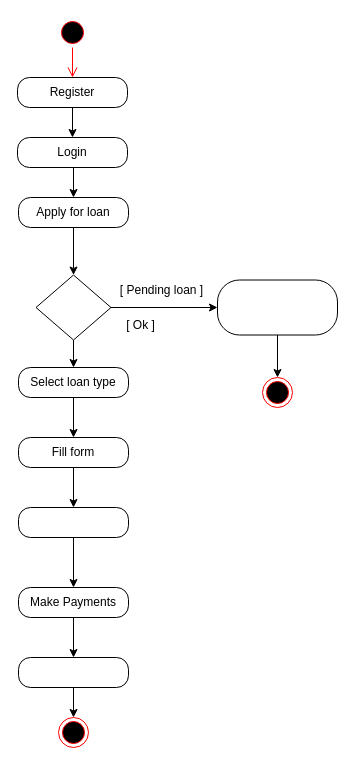
The diagram is 355 pixels wide and 765 high, and some of its shapes have lost their labels. The shapes that lost their labels are listed below. From the top down, each one's box as (x1, y1, x2, y2) in pixels, then its label:
(216, 279, 338, 335): Alert: Loan pending
(18, 506, 128, 538): View Details
(18, 656, 128, 688): View status / History
